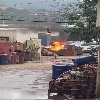fire: (49, 41, 66, 51)
